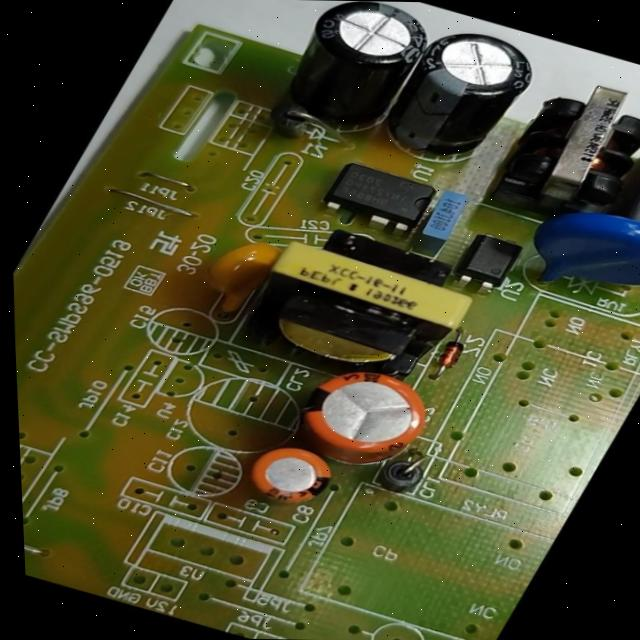Cap1: (262, 350, 466, 481)
Cap2: (219, 431, 361, 523)
Cap3: (356, 12, 558, 180)
Cap4: (243, 0, 459, 152)
MOSFET: (301, 154, 457, 242)
Mov: (496, 188, 640, 324)
Transformer: (203, 212, 505, 400), (469, 63, 640, 241)
